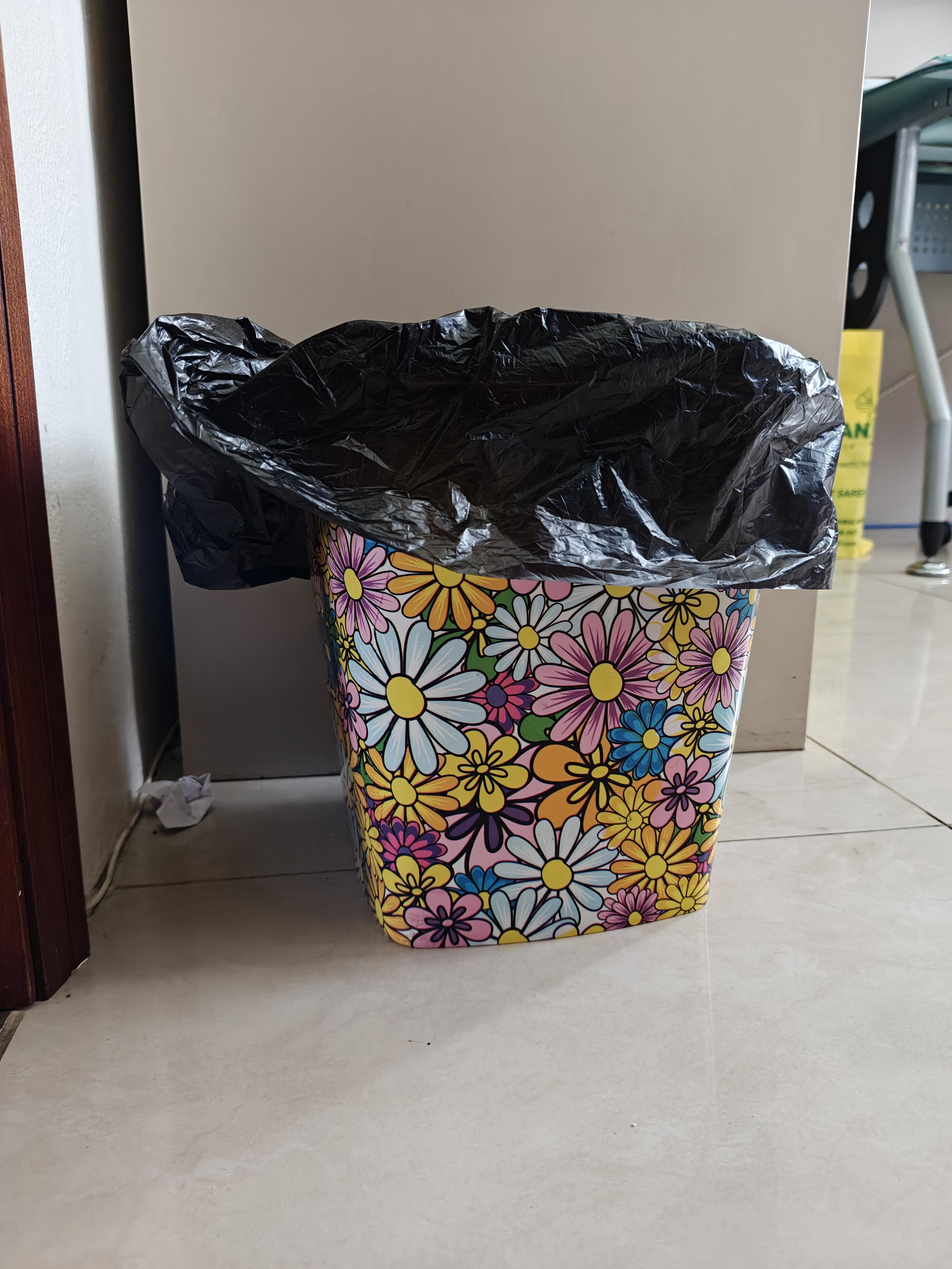bin: (260, 305, 845, 961)
